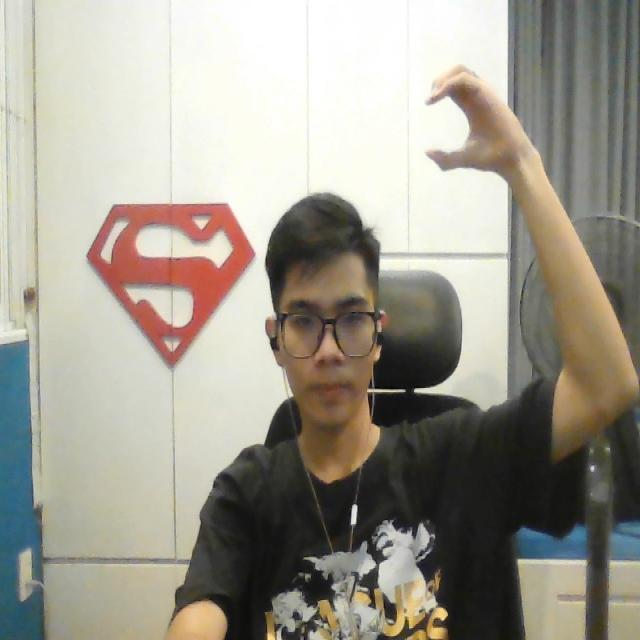C: (426, 69, 498, 170)
